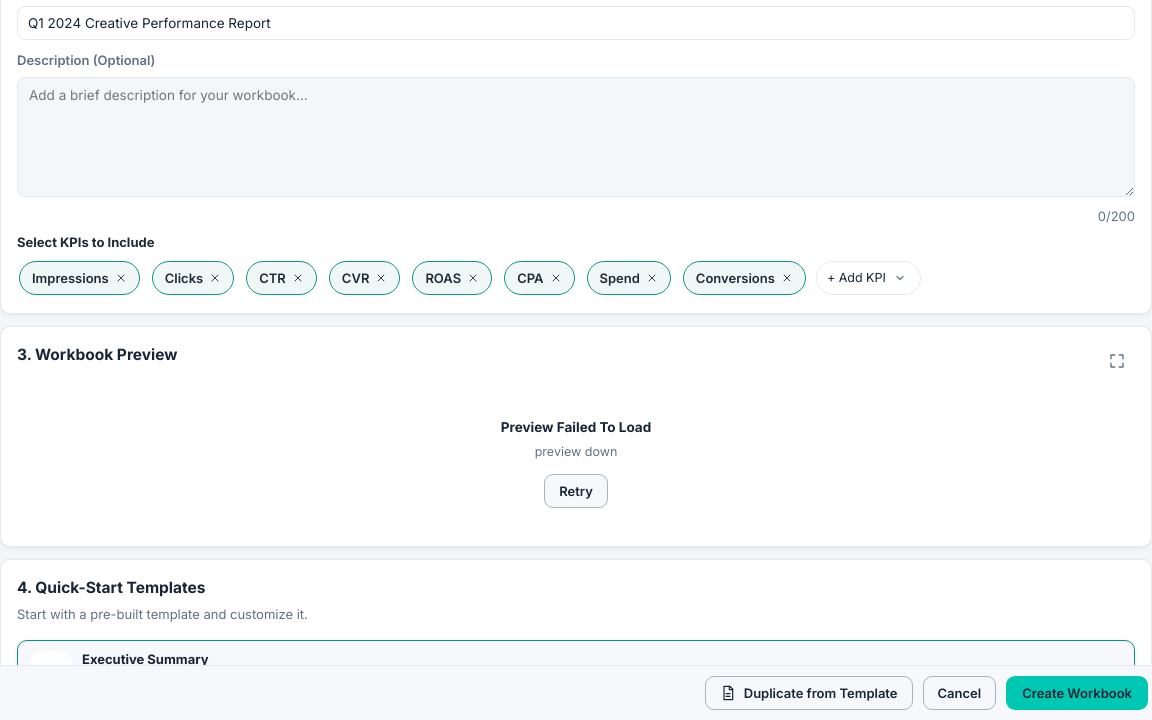
WorkbookPage preview failure › shows the same retryable preview failure in fullscreen
This screenshot has width=1152, height=720.
(page scrolled)
Expected: the text "Preview Failed To Load" is shown, 501,416 -> 651,437
Click the button named "Full screen" at (1117, 360), box 1099,342 -> 1135,378
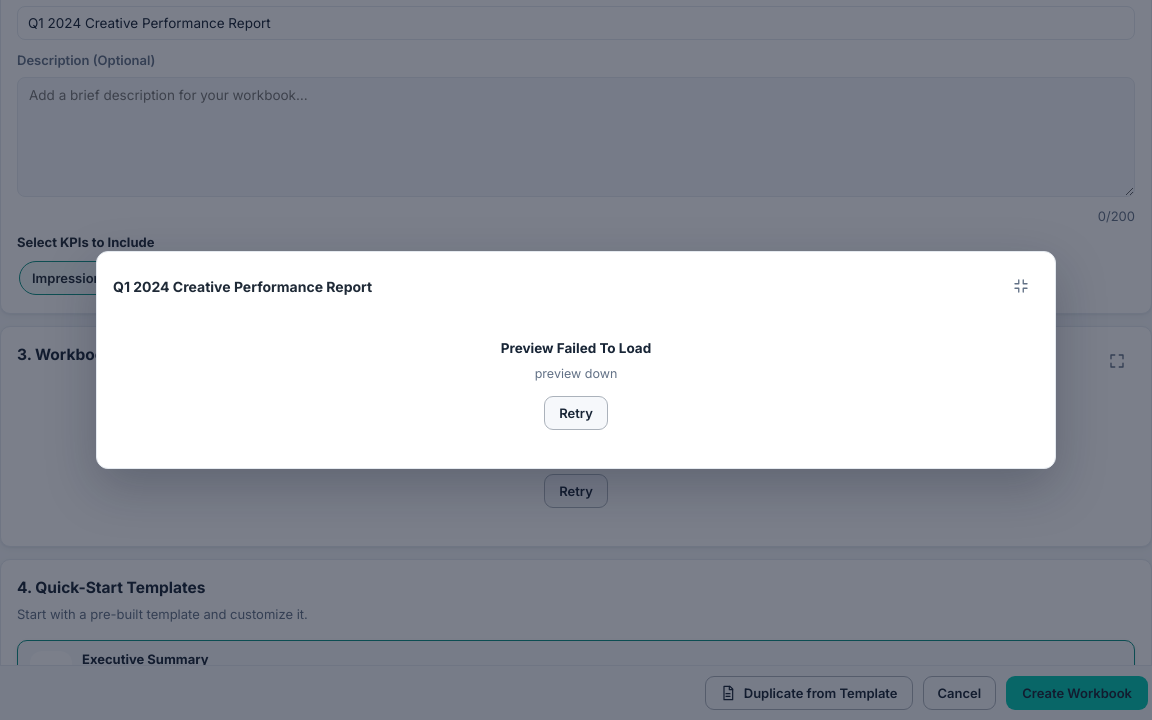
Expected: the text "Preview Failed To Load" is shown 2 times, 501,416 -> 651,437; 501,338 -> 651,359
